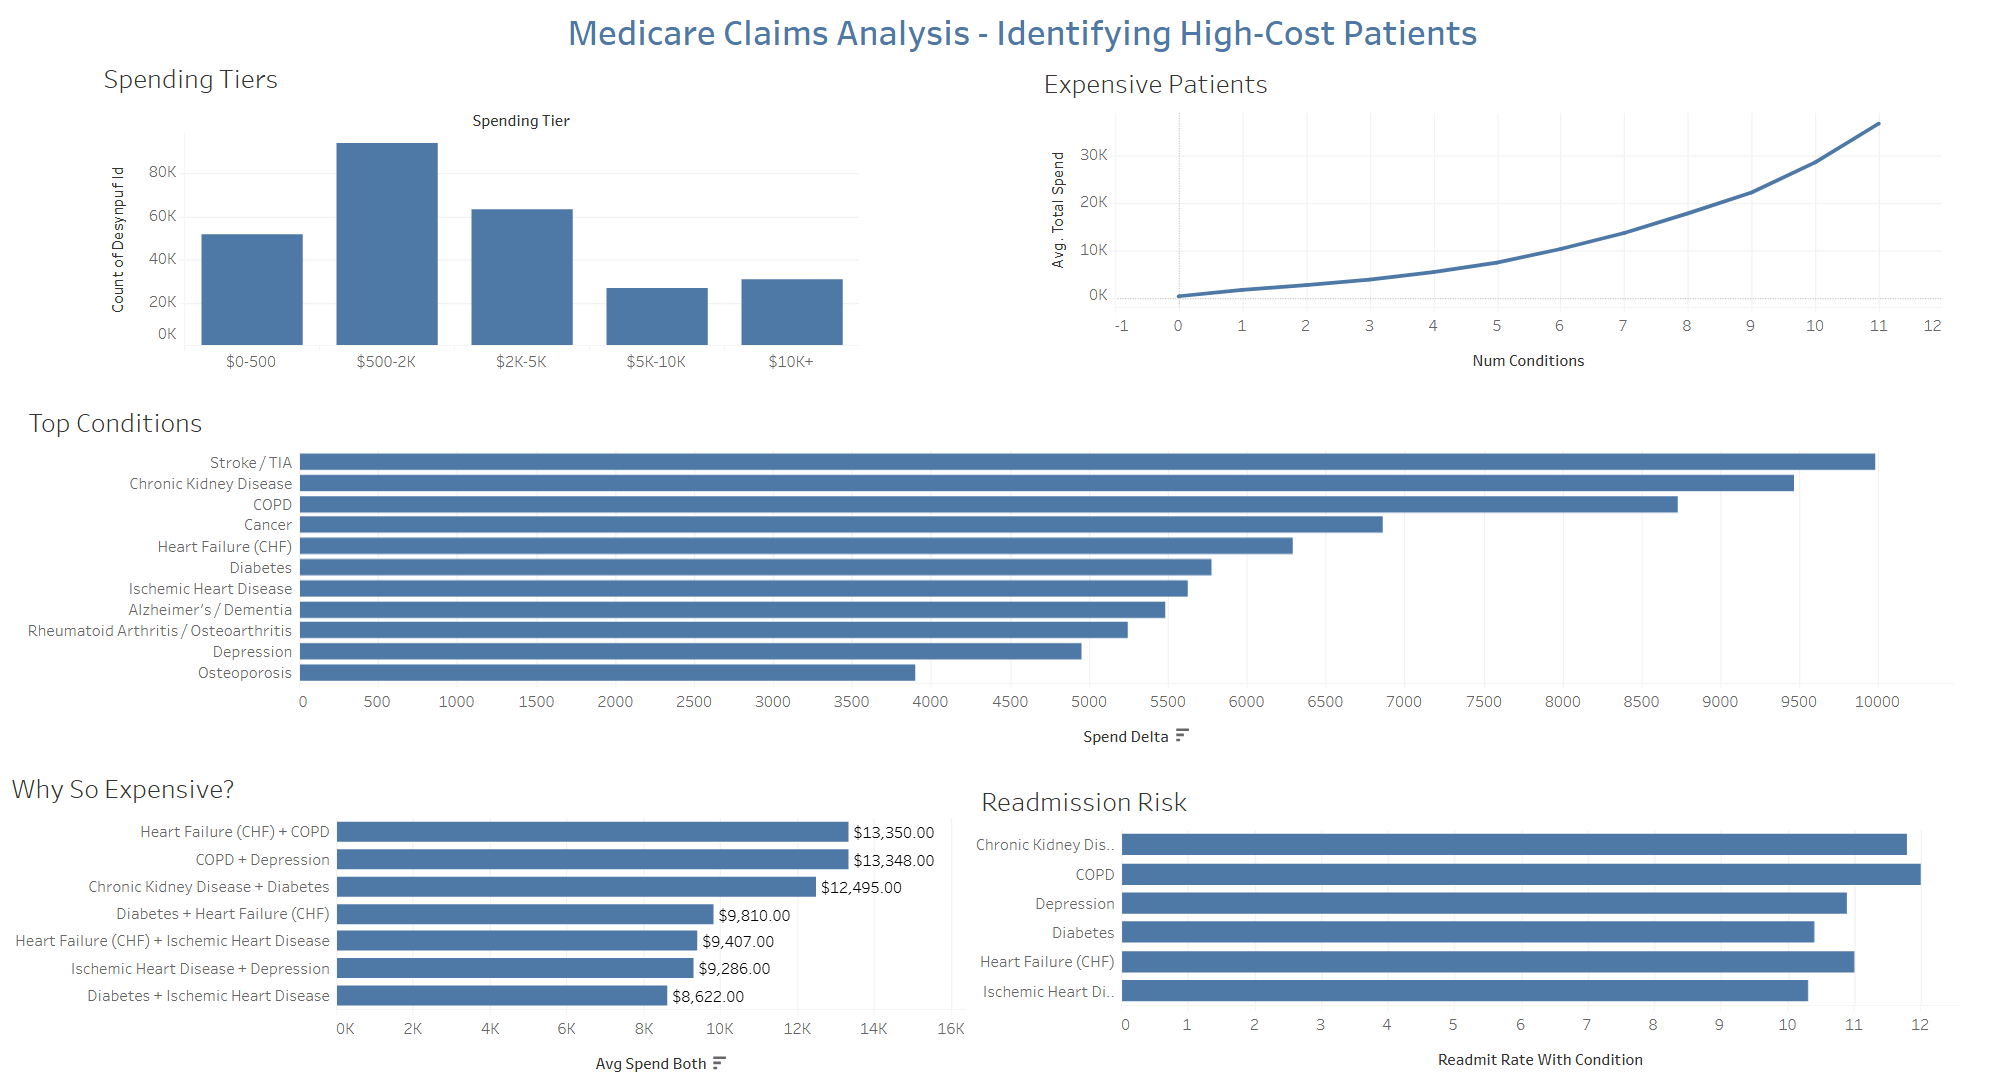

What the dashboard file says about the page in this screenshot:
{"tool":"tableau","page":{"name":"Healthcare Claims - Summary","canvas":[1000,1000],"units":"permille","ordinal":0},"visuals":[{"type":"text","box":[280.6,2.8,475,53.7]},{"type":"worksheet","title":"Spending Tiers","mark":"Bar","rows":["DESYNPUF_ID"],"cols":["spending_tier"],"box":[46,45.3,385.2,303.1]},{"type":"worksheet","title":"Expensive Patients","mark":"Automatic","rows":["total_spend"],"cols":["num_conditions"],"box":[516.2,49.9,457,303.1]},{"type":"worksheet","title":"Top Conditions","mark":"Automatic","rows":["condition"],"cols":["spend_delta"],"box":[9,361.2,970,337.5]},{"type":"worksheet","title":"Why So Expensive?","mark":"Automatic","rows":["Calculation_1826589704507392"],"cols":["avg_spend_both"],"box":[0,698.8,485,301.2]},{"type":"worksheet","title":"Readmission Risk","mark":"Automatic","rows":["condition"],"cols":["readmit_rate_with_condition"],"box":[485,711.2,497,285]}]}

Visuals, with their boxes on the dashboard's canvas, which has no fixed pixel size, in thousandths of its width and height (x1, y1, x2, y2). These are canvas units, not pixel positions in the 2003x1082 screenshot, which may show the page scaled, cropped or inside an application window:
text: {"x1": 281, "y1": 3, "x2": 756, "y2": 56}
"Spending Tiers" worksheet (Bar marks): {"x1": 46, "y1": 45, "x2": 431, "y2": 348}
"Expensive Patients" worksheet: {"x1": 516, "y1": 50, "x2": 973, "y2": 353}
"Top Conditions" worksheet: {"x1": 9, "y1": 361, "x2": 979, "y2": 699}
"Why So Expensive?" worksheet: {"x1": 0, "y1": 699, "x2": 485, "y2": 1000}
"Readmission Risk" worksheet: {"x1": 485, "y1": 711, "x2": 982, "y2": 996}
